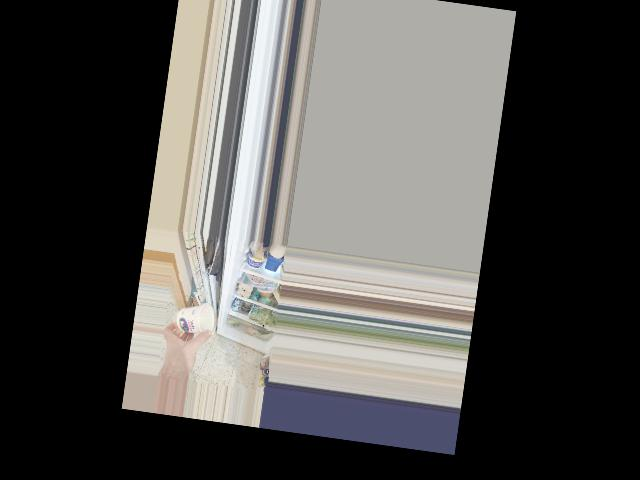cotage: (172, 300, 215, 339)
